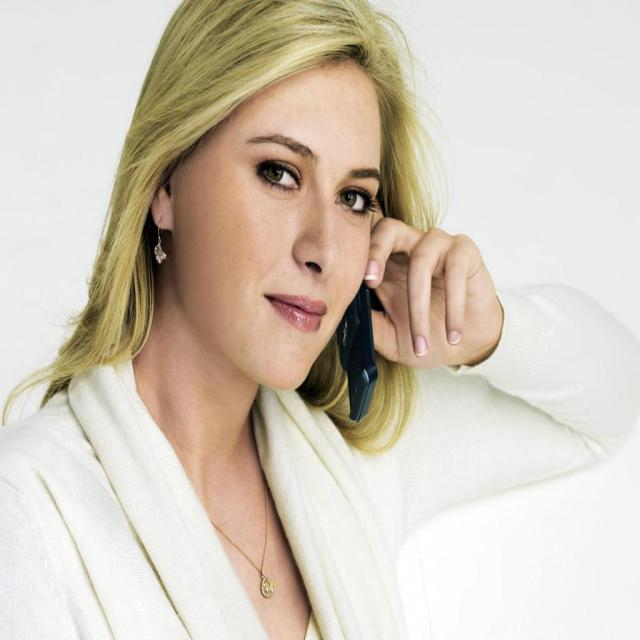Face: (155, 68, 405, 380)
